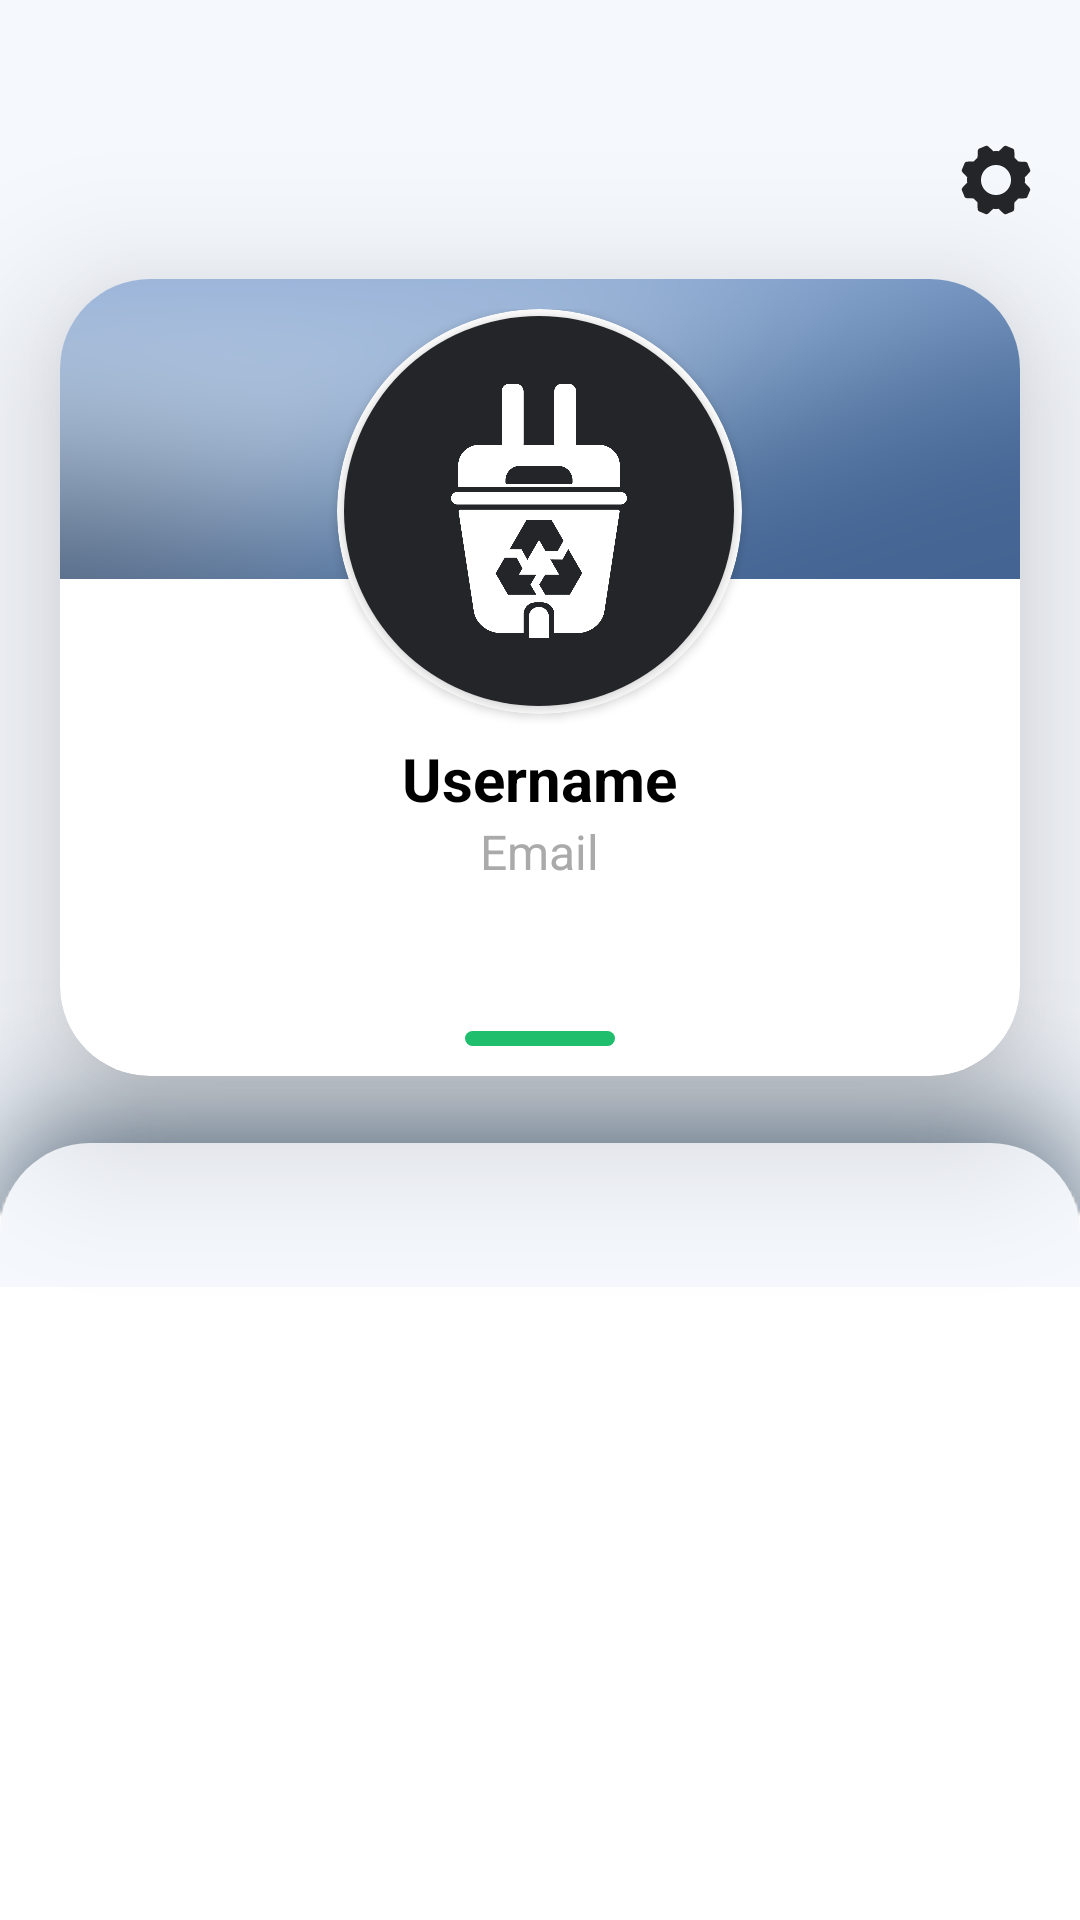

Icons on this 1080 x 1920 Android screen, each with the point to tap as (x,y):
settings: (996,180)
